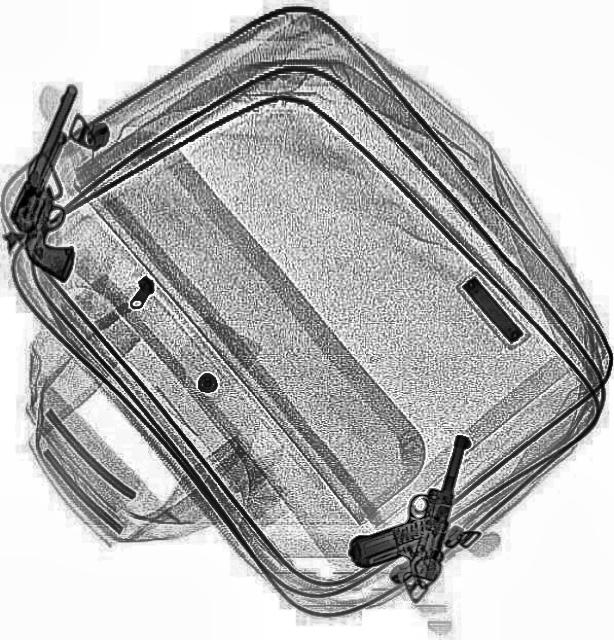Gun: (0, 85, 134, 275), (344, 414, 476, 584)
